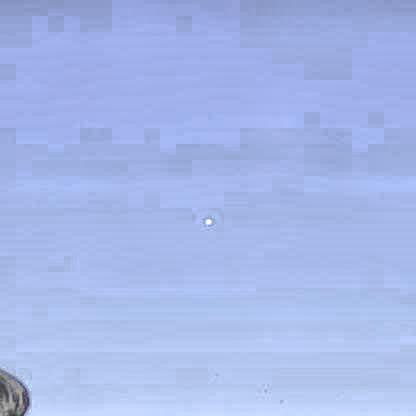golfball: (201, 213, 213, 223)
